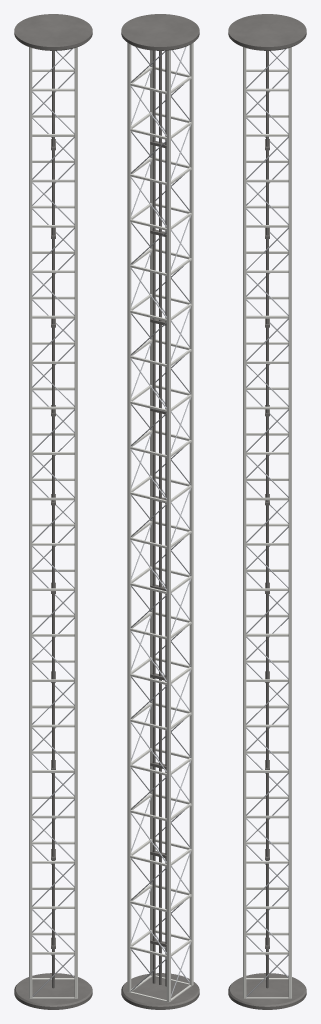
File: ax_grav_04_truss_spoke.glb
The picture shows the model from 3 angles, left to right: view 1: azimuth 90°, elevation 25°; view 2: azimuth 150°, elevation 25°; view 3: azimuth 270°, elevation 25°; orthographic projection.
Visible parts, largest first — view 1: longerons, frames, end_fittings, tension_cables, utility_lines, line_clamps; view 2: longerons, frames, utility_lines, tension_cables, end_fittings, line_clamps; view 3: longerons, frames, end_fittings, tension_cables, utility_lines, line_clamps.
Boxes of the visible parts, x1=… form: longerons: x1=29, y1=47, x2=77, y2=998; frames: x1=32, y1=69, x2=74, y2=998; end_fittings: x1=14, y1=14, x2=92, y2=1009; tension_cables: x1=32, y1=48, x2=74, y2=997; utility_lines: x1=52, y1=51, x2=54, y2=988; line_clamps: x1=51, y1=139, x2=55, y2=948; longerons: x1=127, y1=43, x2=193, y2=1002; frames: x1=130, y1=67, x2=191, y2=1001; utility_lines: x1=152, y1=50, x2=166, y2=986; tension_cables: x1=130, y1=46, x2=191, y2=996; end_fittings: x1=121, y1=14, x2=199, y2=1009; line_clamps: x1=150, y1=140, x2=166, y2=947; longerons: x1=243, y1=47, x2=291, y2=998; frames: x1=246, y1=69, x2=288, y2=998; end_fittings: x1=228, y1=14, x2=306, y2=1009; tension_cables: x1=246, y1=48, x2=288, y2=997; utility_lines: x1=266, y1=51, x2=268, y2=988; line_clamps: x1=265, y1=139, x2=269, y2=948.
Bounding box in the file's own units: 1.6 × 21.7 × 1.6.
3 materials, 2 textured.
